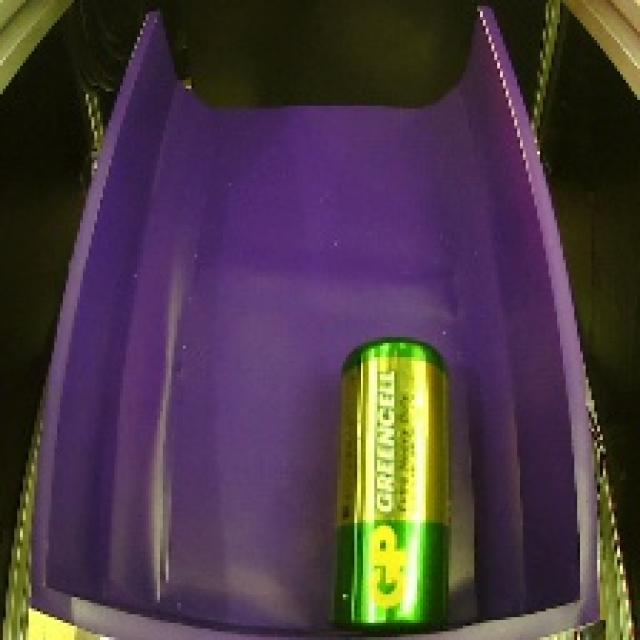battery: (317, 321, 459, 638)
